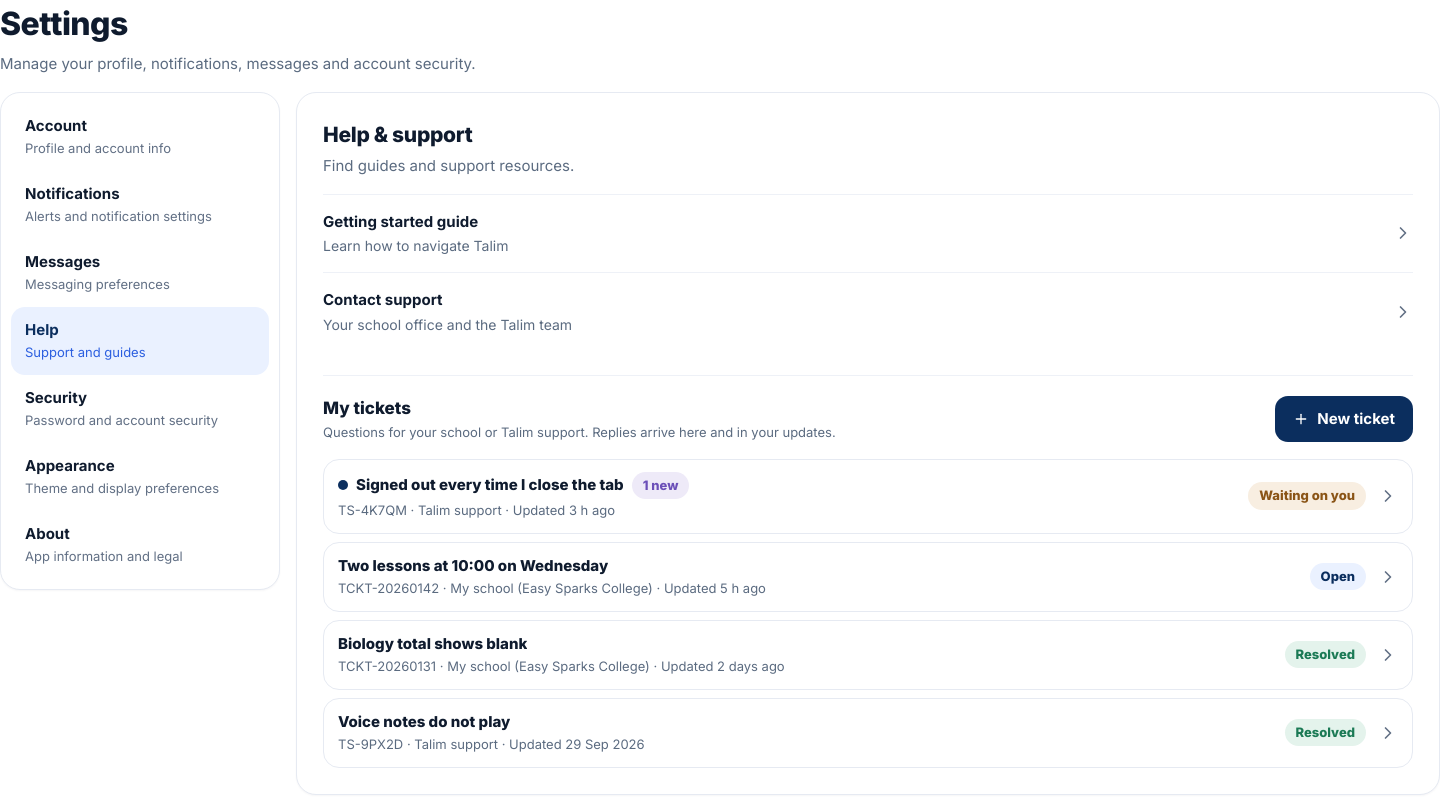
New ticket › lets a student choose My school or Talim support, and checks every field on Send
The width and height of the screenshot is (1440, 810).
Expected: the list named "My tickets" is shown, [323,458,1413,768]
Click the button "New ticket". click: (1344, 419)
box: [1275,396,1413,442]
(page scrolled)
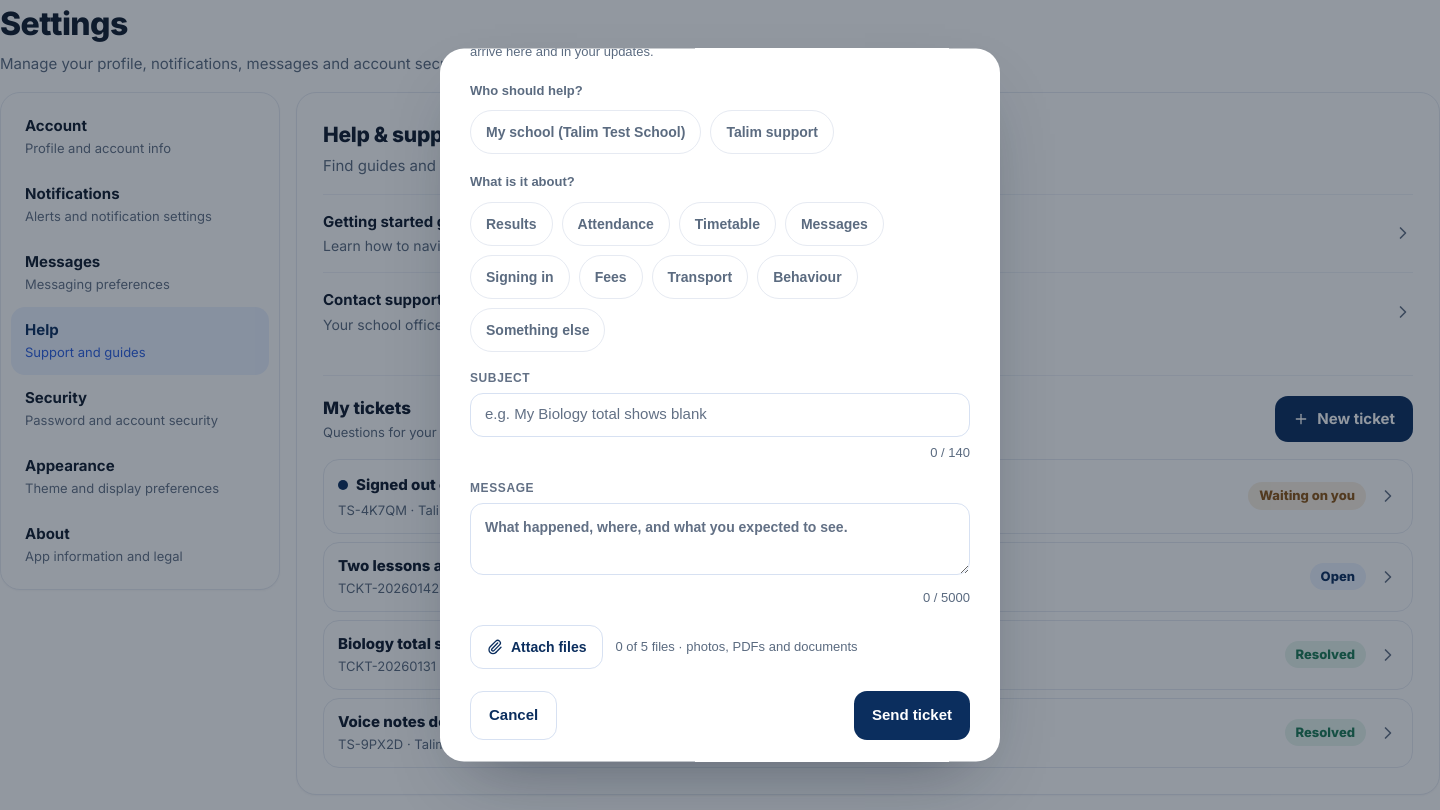
Result: the radio buttons read "My school (Talim Test School)", "Talim support", in this order at [470,110,701,154]; [710,110,834,154]
Click the button "Send ticket". click: (912, 715)
box: [854,691,970,739]
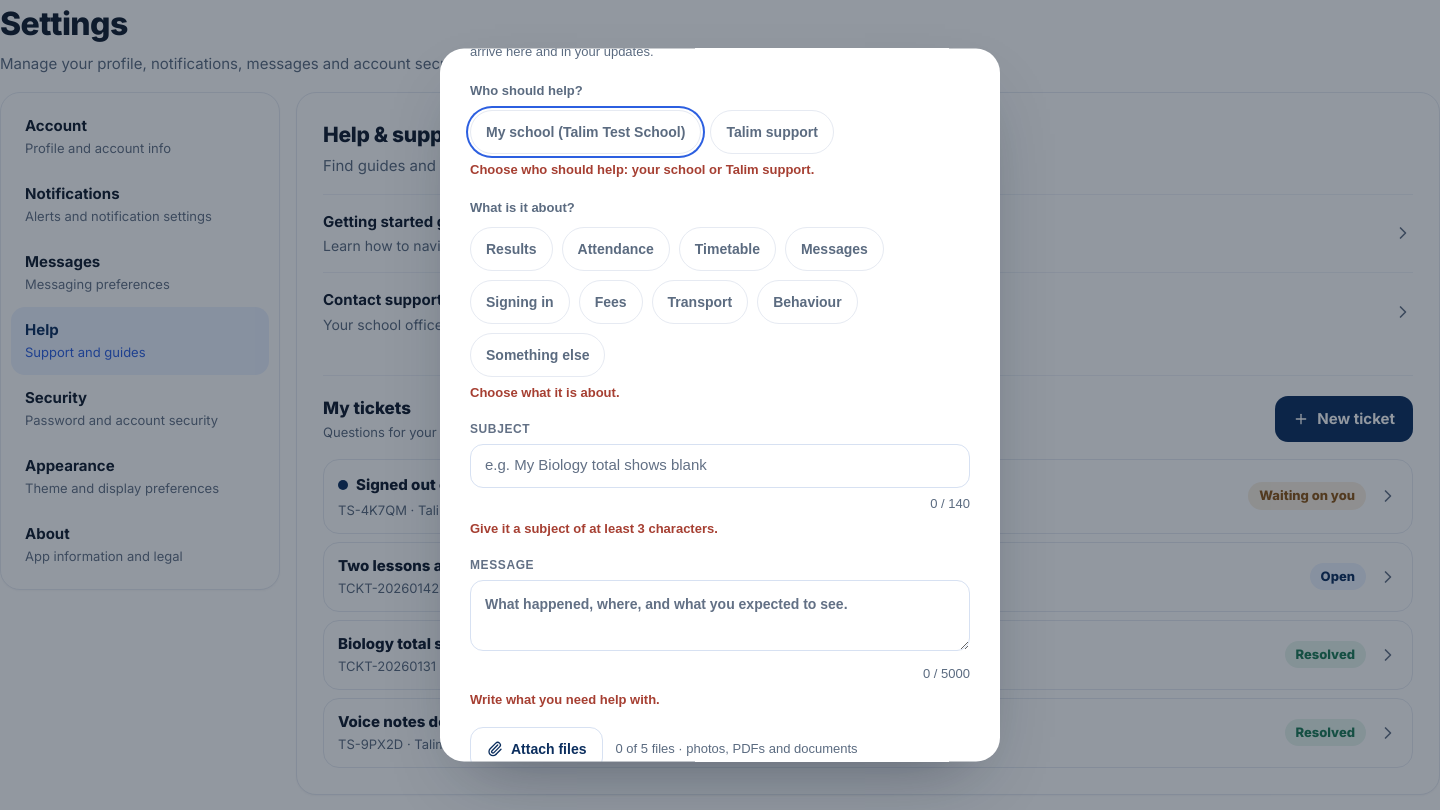
Result: the text "Choose who should help: your school or Talim support." is shown at [470,162,814,177]
Result: the text "Choose what it is about." is shown at [470,385,620,400]
